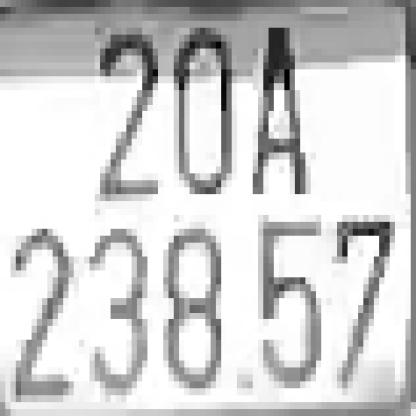0: (174, 35, 232, 194)
2: (95, 28, 158, 208), (11, 229, 74, 395)
3: (90, 229, 152, 388)
5: (258, 215, 316, 374)
7: (332, 215, 390, 374)
8: (163, 229, 216, 381)
A: (248, 35, 306, 194)
